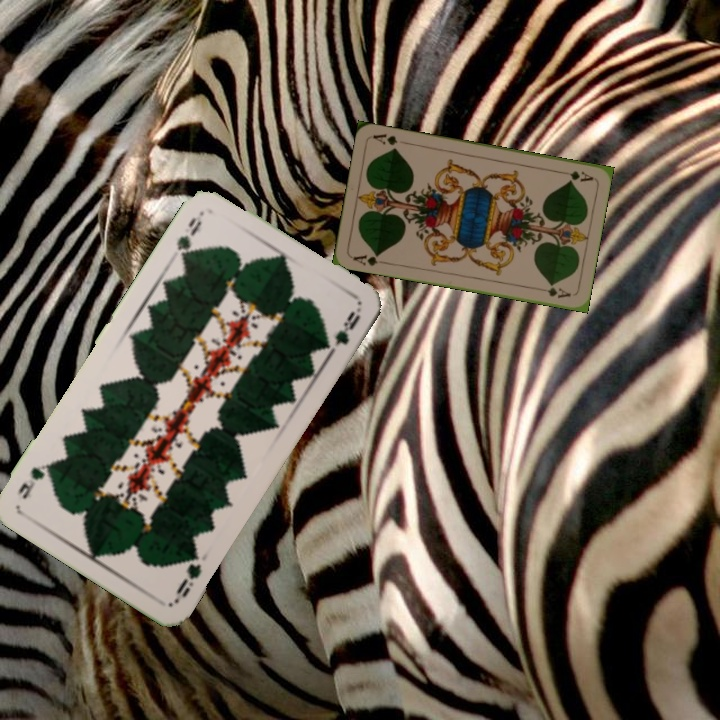G9: (172, 207, 207, 264), (171, 547, 204, 605)
GA: (349, 250, 389, 269), (555, 167, 596, 184)
